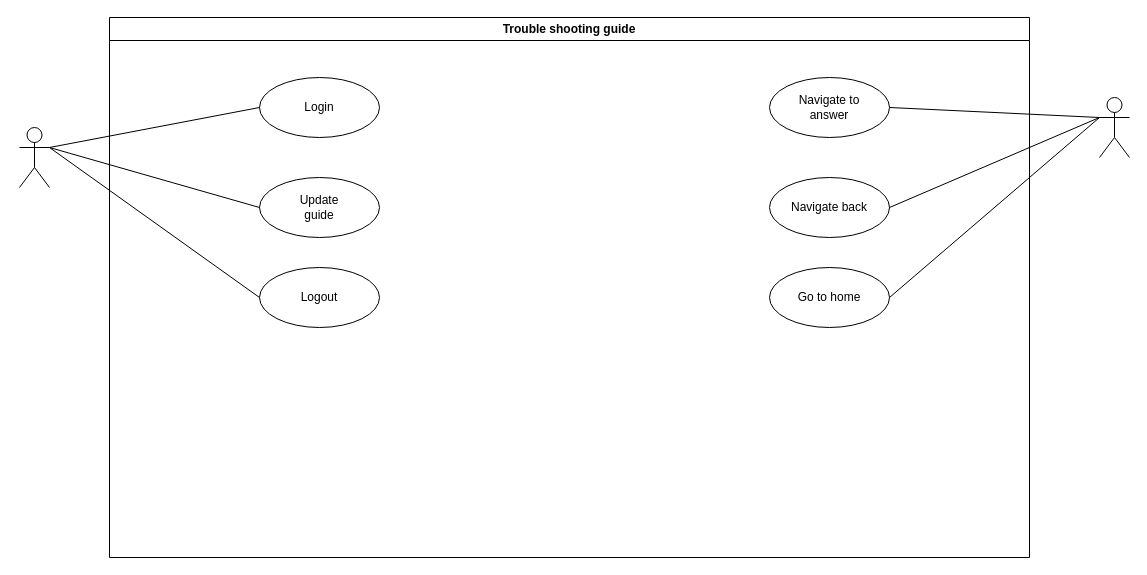
The diagram is 1147 pixels wide and 575 high, and some of its shapes have lost their labels. Here are the shapes that lost their labels. From the top down, the box of each, then its label:
(1098, 96, 1130, 158): User
(18, 126, 50, 188): Admin
